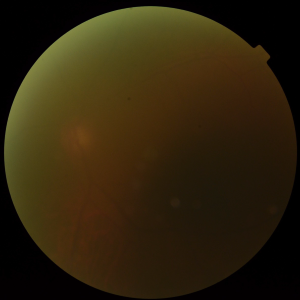cataract: (43, 97, 263, 209)
